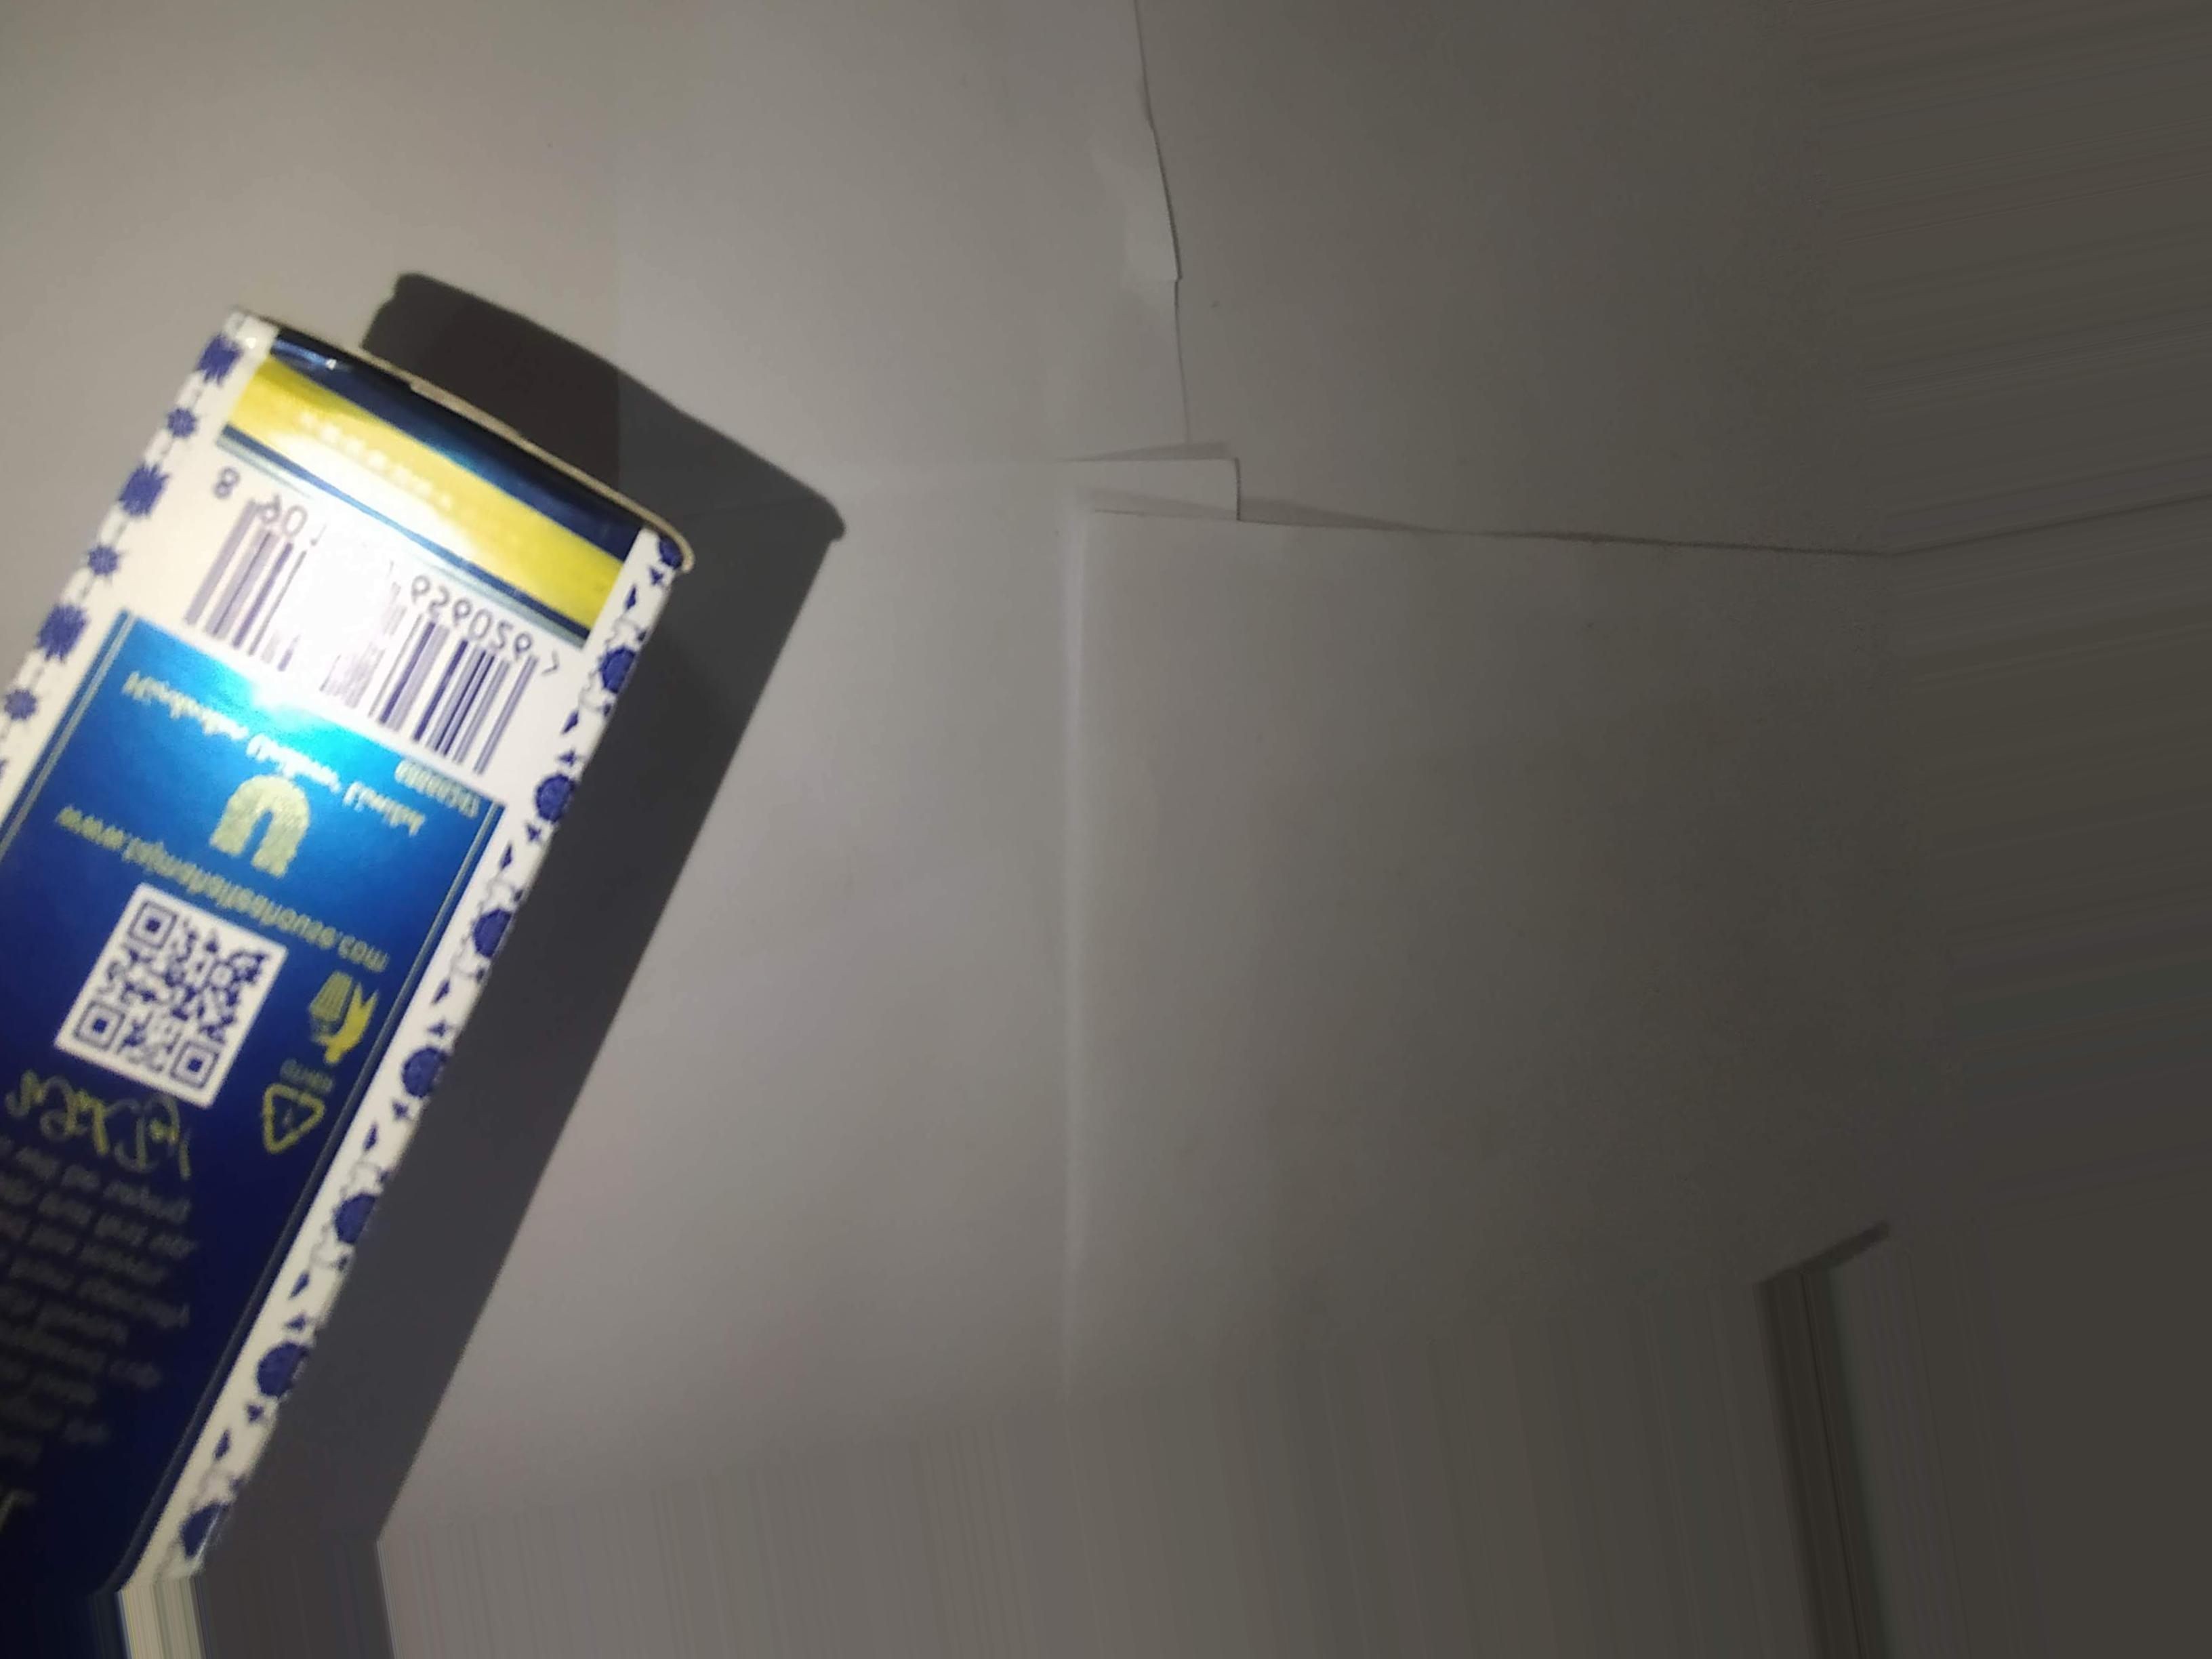Bar_code: (150, 448, 580, 781)
QR_code: (73, 899, 273, 1122)
